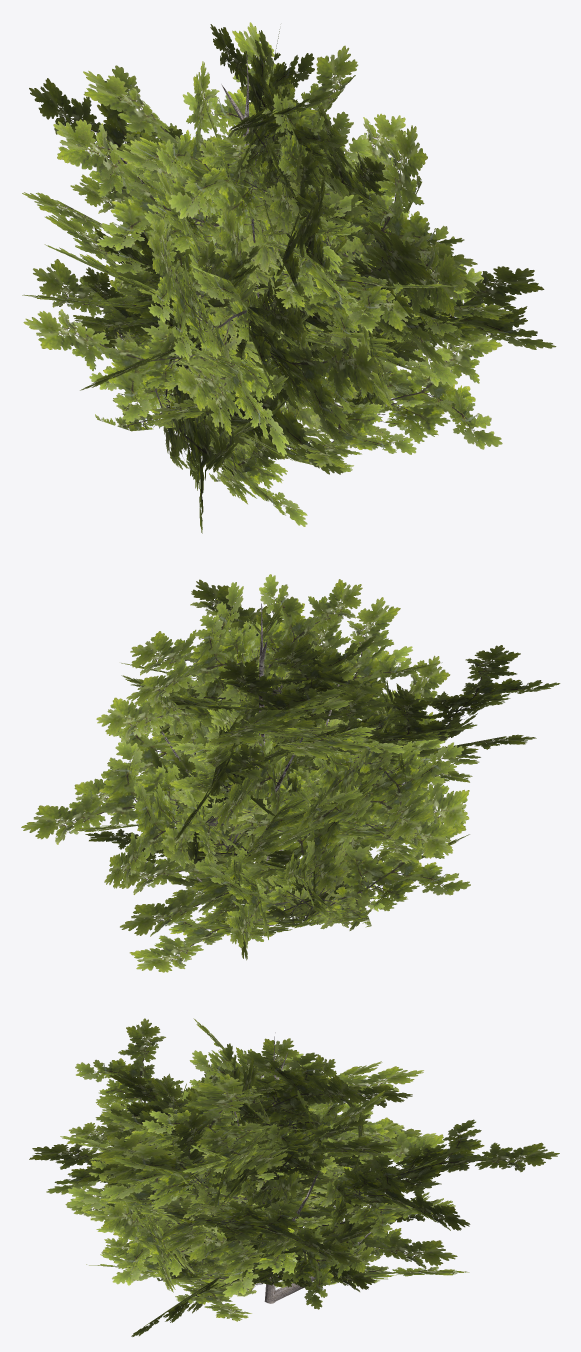
Rendered from bush.glb.
The picture shows the model from 3 angles, top to bottom: view 1: azimuth 30°, elevation 25°; view 2: azimuth 150°, elevation 25°; view 3: azimuth 270°, elevation 25°; orthographic projection. The views are drawn at different scales.
Visible parts, largest first — view 1: 2_pngaaa.com-3905963.001_0.002; view 2: 2_pngaaa.com-3905963.001_0.002, 2_bark-1.001_0; view 3: 2_pngaaa.com-3905963.001_0.002, 2_bark-1.001_0.
Part boxes in pixels (<box>): 2_pngaaa.com-3905963.001_0.002: <box>22,22,556,533</box>; 2_pngaaa.com-3905963.001_0.002: <box>21,574,560,972</box>; 2_bark-1.001_0: <box>162,603,339,925</box>; 2_pngaaa.com-3905963.001_0.002: <box>29,1018,559,1336</box>; 2_bark-1.001_0: <box>234,1032,371,1303</box>.
Bounding box in the file's own units: 7.36 × 6.7 × 11.73.
Materials: 2 (2 with a texture image).
